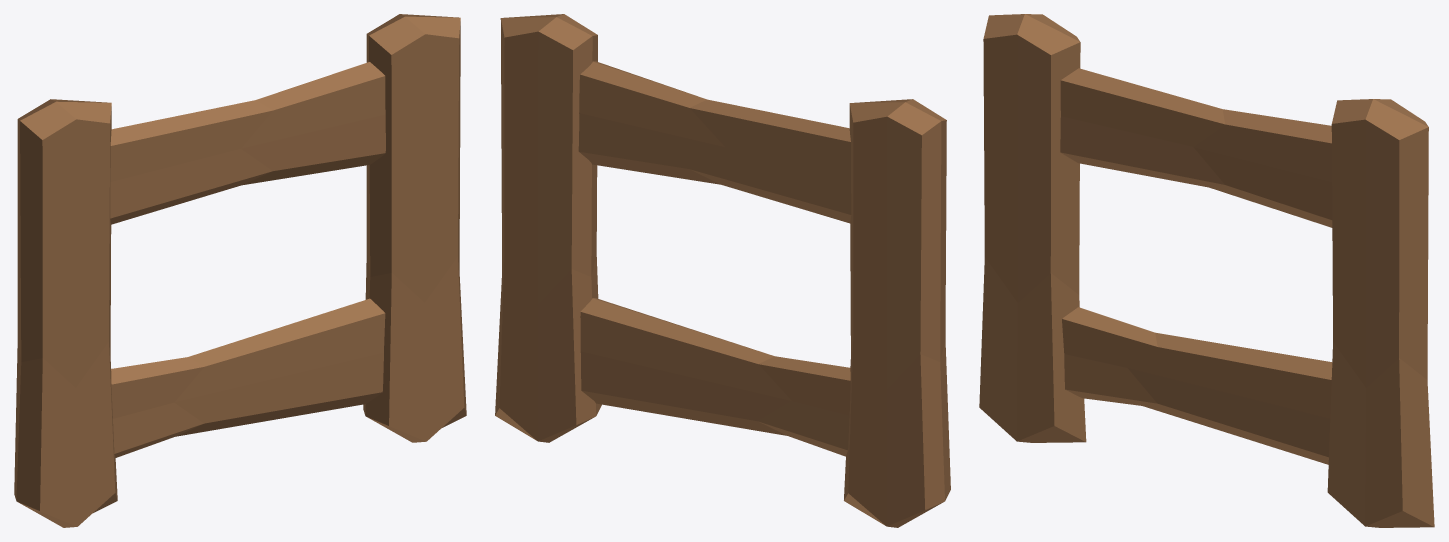
File: Fence_2 Door.fbx
3 renders of one model, left to right at view 1: azimuth 30°, elevation 25°; view 2: azimuth 150°, elevation 25°; view 3: azimuth 330°, elevation 25°, orthographic.
Parts seen in each view (by area): view 1: Fence2 Door_mesh; view 2: Fence2 Door_mesh; view 3: Fence2 Door_mesh.
Boxes of the visible parts, box(x1,y1,x2,y2) form: Fence2 Door_mesh: box(14, 14, 466, 527); Fence2 Door_mesh: box(495, 14, 950, 527); Fence2 Door_mesh: box(979, 14, 1434, 527).
Bounding box in the file's own units: 80.37 × 72.99 × 8.51.
